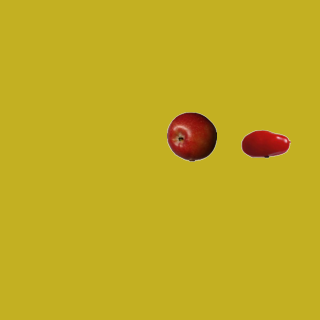Apple Braeburn: (166, 111, 216, 161)
Tomato 2: (240, 118, 290, 168)
